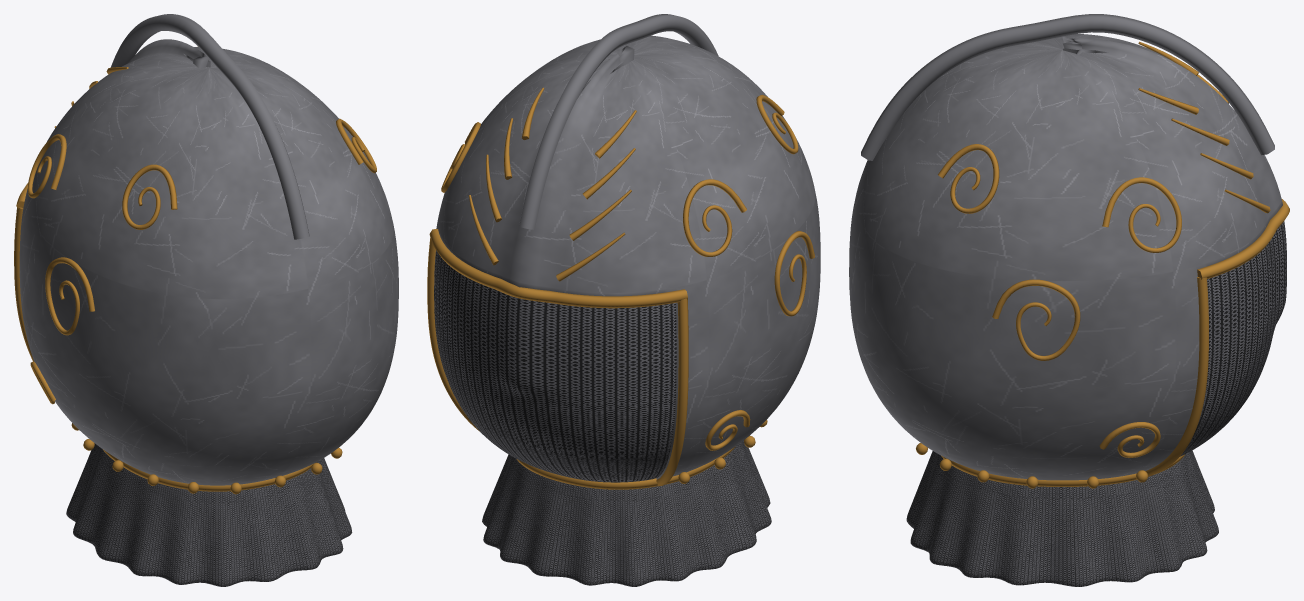
Rendered from casco_rector.glb.
The picture shows the model from 3 angles, left to right: view 1: azimuth 30°, elevation 25°; view 2: azimuth 150°, elevation 25°; view 3: azimuth 270°, elevation 25°; orthographic projection. The views are drawn at different scales.
Parts seen in each view (by area): view 1: Casco_rector; view 2: Casco_rector; view 3: Casco_rector.
Part boxes in pixels (x1=…): Casco_rector: x1=14, y1=14, x2=398, y2=586; Casco_rector: x1=427, y1=14, x2=820, y2=586; Casco_rector: x1=849, y1=14, x2=1289, y2=586.
Bounding box in the file's own units: 0.2458 × 0.3647 × 0.2847.
Materials: 3 (3 with a texture image).
